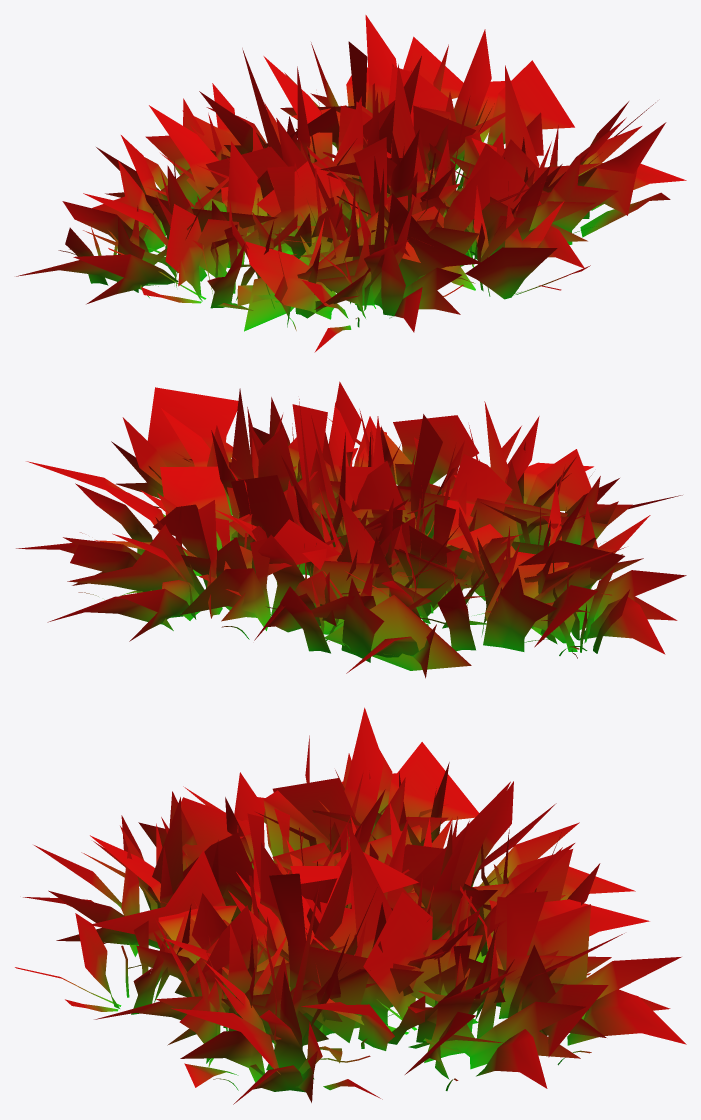
Rendered from Tundra Grass_LOD4_Var5_wk2oaeyqx.fbx.
3 views of the same model, one above another, from view 1: azimuth 30°, elevation 25°; view 2: azimuth 150°, elevation 25°; view 3: azimuth 270°, elevation 25° (orthographic). The views are drawn at different scales.
Parts seen in each view (by area): view 1: _tj2g_Var5_LOD4; view 2: _tj2g_Var5_LOD4; view 3: _tj2g_Var5_LOD4.
Boxes of the visible parts, x1,y1,x2,y2 form: _tj2g_Var5_LOD4: [16, 15, 686, 352]; _tj2g_Var5_LOD4: [16, 381, 686, 678]; _tj2g_Var5_LOD4: [15, 707, 686, 1104].
Bounding box in the file's own units: 98.13 × 26.1 × 77.48.
